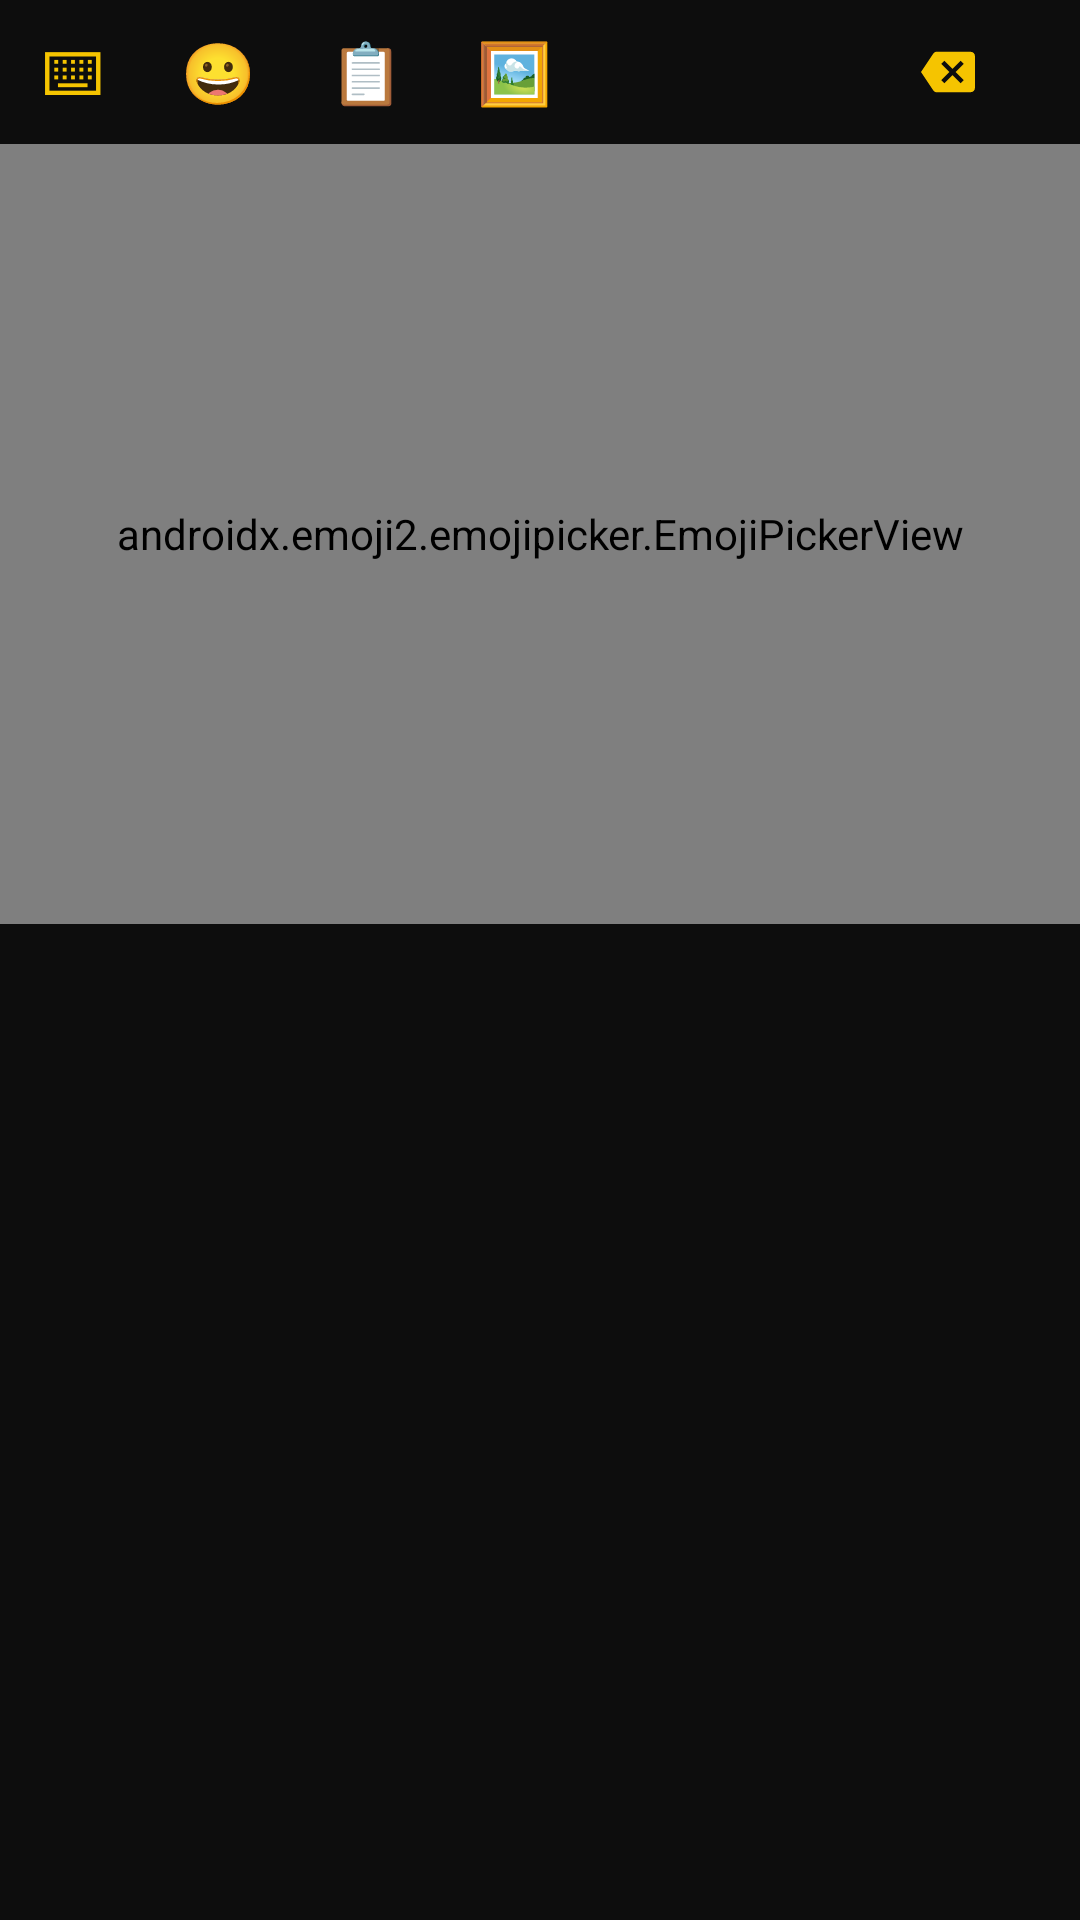

Icon bounding boxes for this 1080×1920 phone screenshot, format (x1, y1, x2, y2):
Delete: (921, 51, 975, 93)
